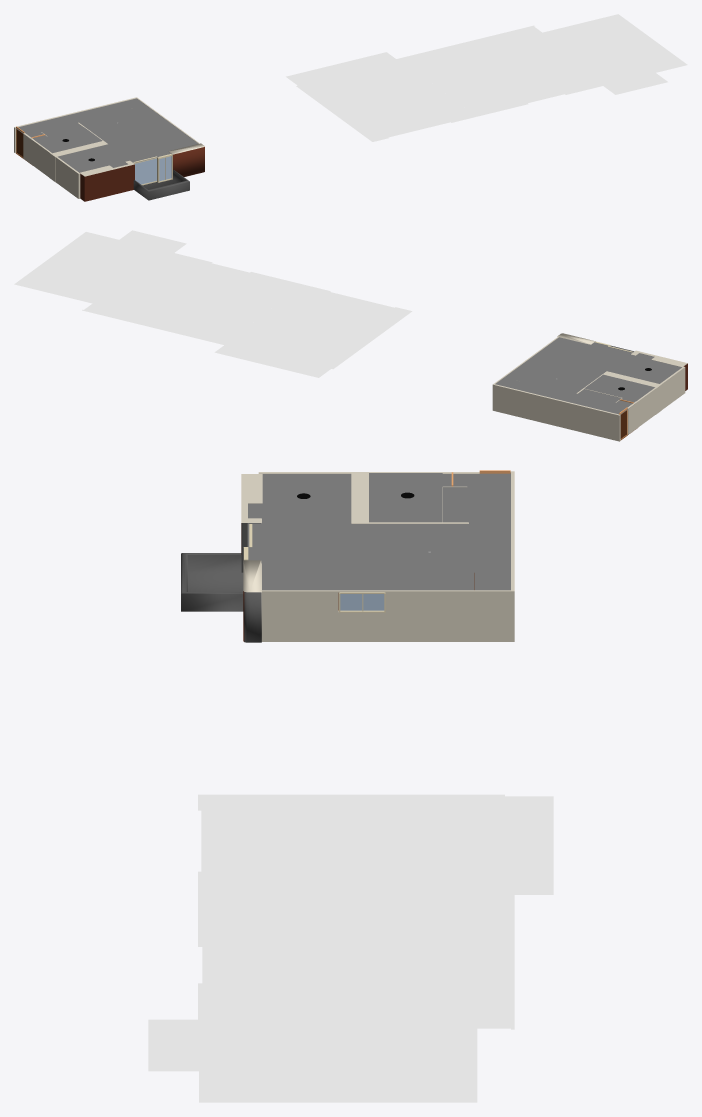
File: free_low_med_poly_apartment_kit_100_objects.glb
3 views of the same model, one above another, from view 1: azimuth 30°, elevation 25°; view 2: azimuth 150°, elevation 25°; view 3: azimuth 270°, elevation 25° (orthographic). The views are drawn at different scales.
Parts seen in each view (by area): view 1: 2dmap, foyer.002, Kitchenside, dining room.001, kitchen.001, living.001, bathroom.001, LivingWalls, Balcony, hallway.001, BathroomWall, kitchenBack (+4 smaller); view 2: 2dmap, EntryWall, foyer.002, dining room.001, kitchen.001, living.001, bathroom.001, hallway.001, BathroomWall, kitchenBack, BathroomWalls, Kitchenside; view 3: 2dmap, EntryWall, foyer.002, dining room.001, kitchen.001, living.001, Balcony, bathroom.001, hallway.001, LivingWalls, BathroomWalls, Kitchenside (+1 smaller).
Boxes of the visible parts, left/top/right/bottom form: 2dmap: left=286, top=14, right=687, bottom=141; foyer.002: left=68, top=98, right=156, bottom=143; Kitchenside: left=79, top=160, right=134, bottom=201; dining room.001: left=107, top=131, right=179, bottom=162; kitchen.001: left=58, top=144, right=129, bottom=172; living.001: left=127, top=105, right=198, bottom=148; bathroom.001: left=34, top=127, right=102, bottom=153; LivingWalls: left=168, top=143, right=204, bottom=176; Balcony: left=133, top=170, right=189, bottom=200; hallway.001: left=16, top=115, right=83, bottom=140; BathroomWall: left=23, top=133, right=56, bottom=181; kitchenBack: left=55, top=156, right=80, bottom=198; 2dmap: left=14, top=230, right=412, bottom=377; EntryWall: left=492, top=336, right=620, bottom=441; foyer.002: left=495, top=359, right=604, bottom=401; dining room.001: left=554, top=342, right=633, bottom=371; kitchen.001: left=608, top=353, right=681, bottom=383; living.001: left=504, top=337, right=577, bottom=381; bathroom.001: left=584, top=374, right=654, bottom=401; hallway.001: left=566, top=389, right=635, bottom=414; BathroomWall: left=627, top=383, right=661, bottom=434; kitchenBack: left=659, top=366, right=685, bottom=409; BathroomWalls: left=576, top=371, right=661, bottom=414; Kitchenside: left=631, top=350, right=687, bottom=390; 2dmap: left=148, top=794, right=553, bottom=1102; EntryWall: left=260, top=471, right=514, bottom=641; foyer.002: left=356, top=523, right=510, bottom=590; dining room.001: left=247, top=523, right=355, bottom=572; kitchen.001: left=248, top=474, right=351, bottom=523; living.001: left=262, top=572, right=474, bottom=590; Balcony: left=181, top=553, right=243, bottom=611; bathroom.001: left=369, top=473, right=442, bottom=522; hallway.001: left=442, top=472, right=510, bottom=523; LivingWalls: left=243, top=560, right=261, bottom=642; BathroomWalls: left=351, top=472, right=468, bottom=523; Kitchenside: left=241, top=474, right=262, bottom=572.
Size of the model in its own units: 70.68 by 3.19 by 20.83.
